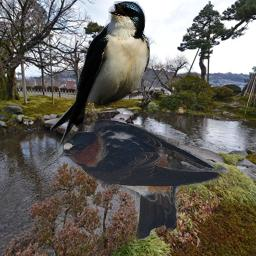Swallow: (58, 117, 223, 240), (50, 1, 150, 150)
